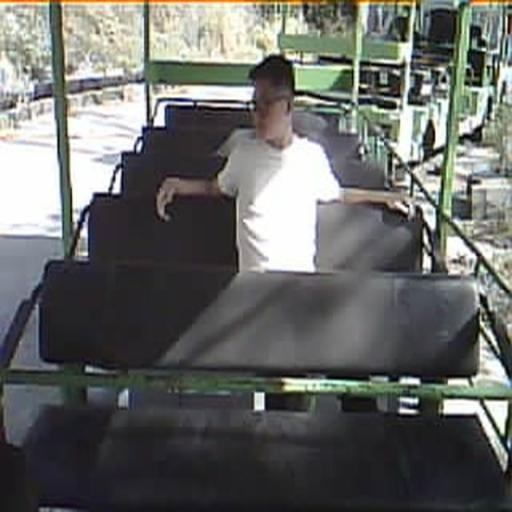persona: (156, 52, 414, 271)
